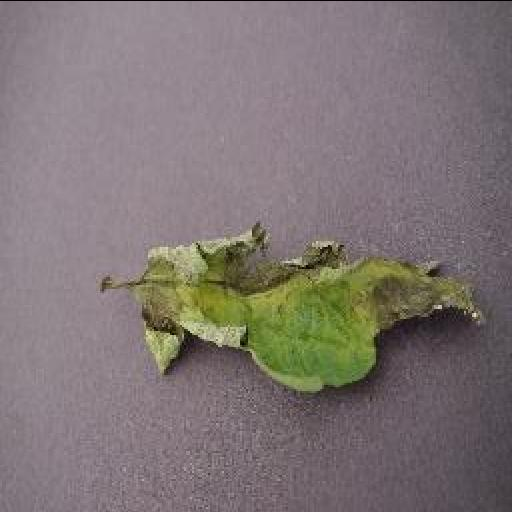disease_tomato: (137, 222, 487, 394)
